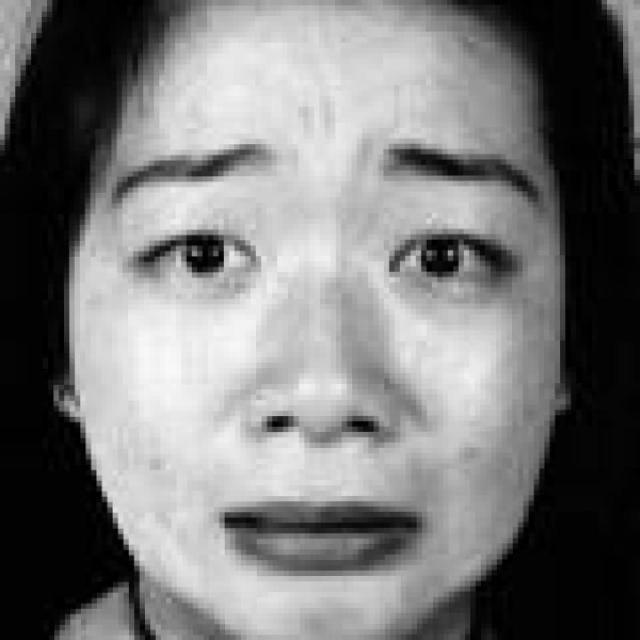fear: (92, 71, 554, 620)
